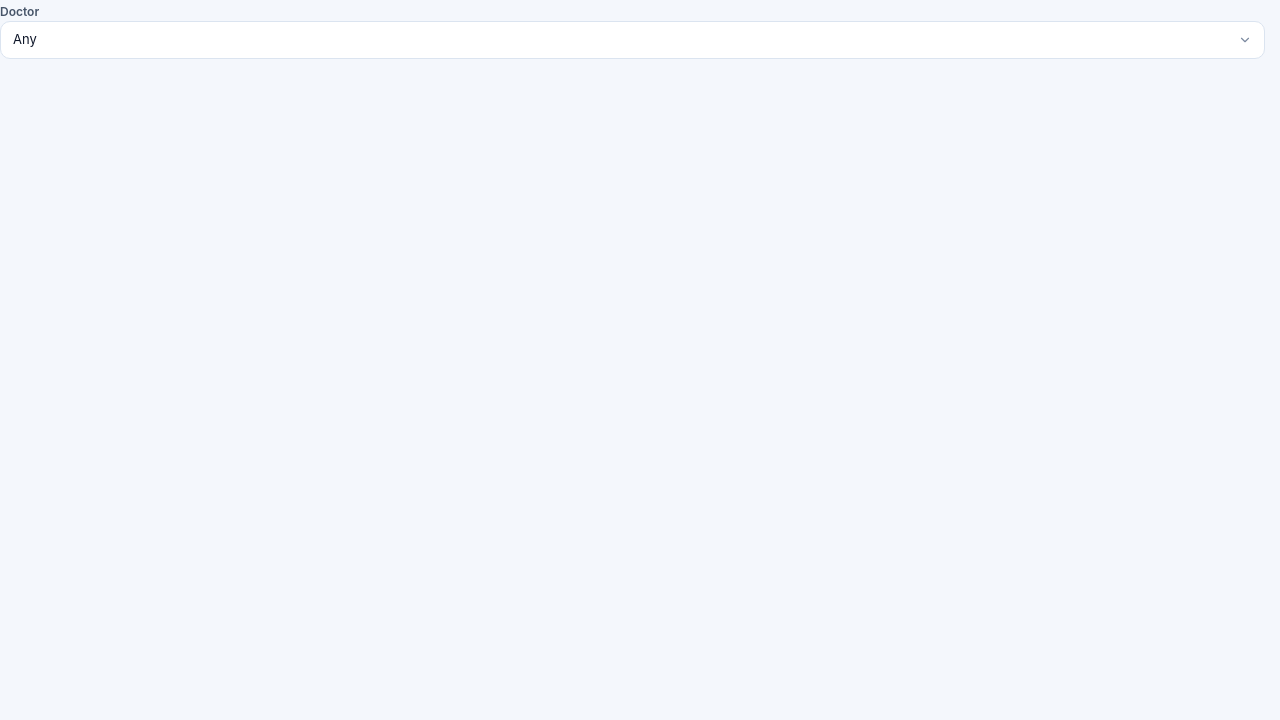
Scenario: drops the query once the popup closes
Click the dropdown named "Doctor" at (25,39), box [0,21,1265,59]
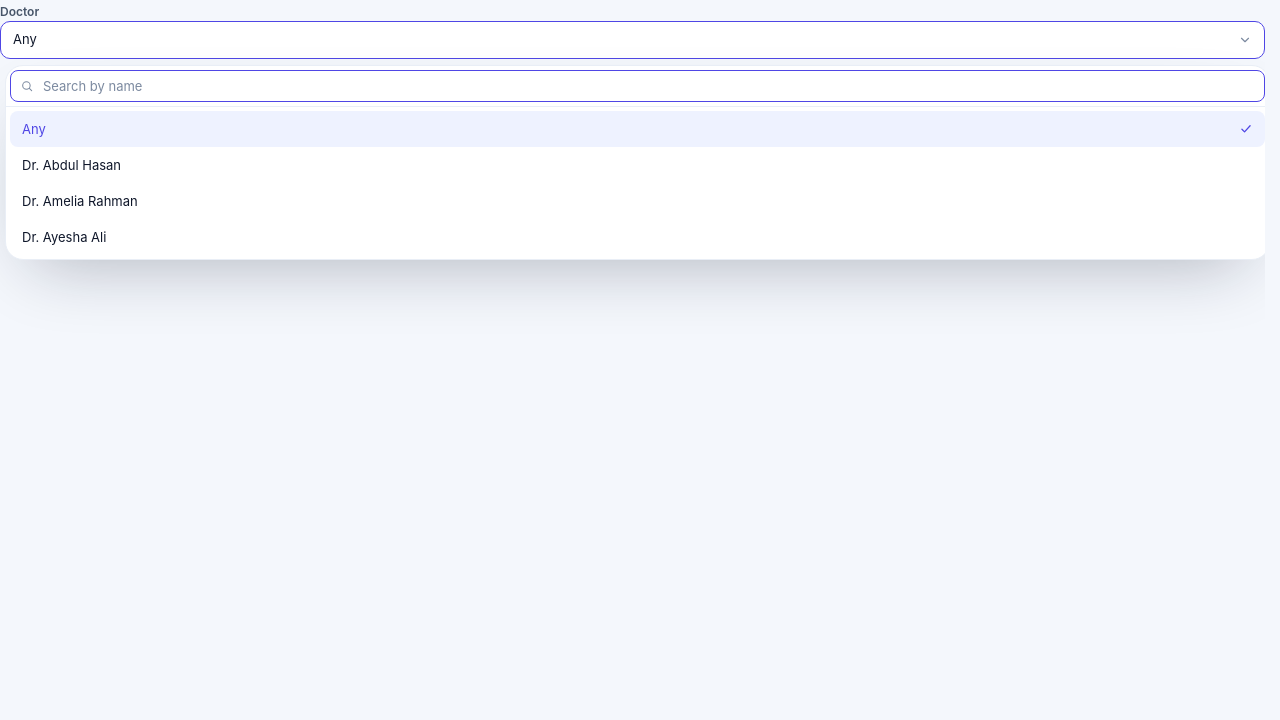
Type "amelia" into the dropdown named "Search doctors" at (638,86), box [10,70,1265,102]
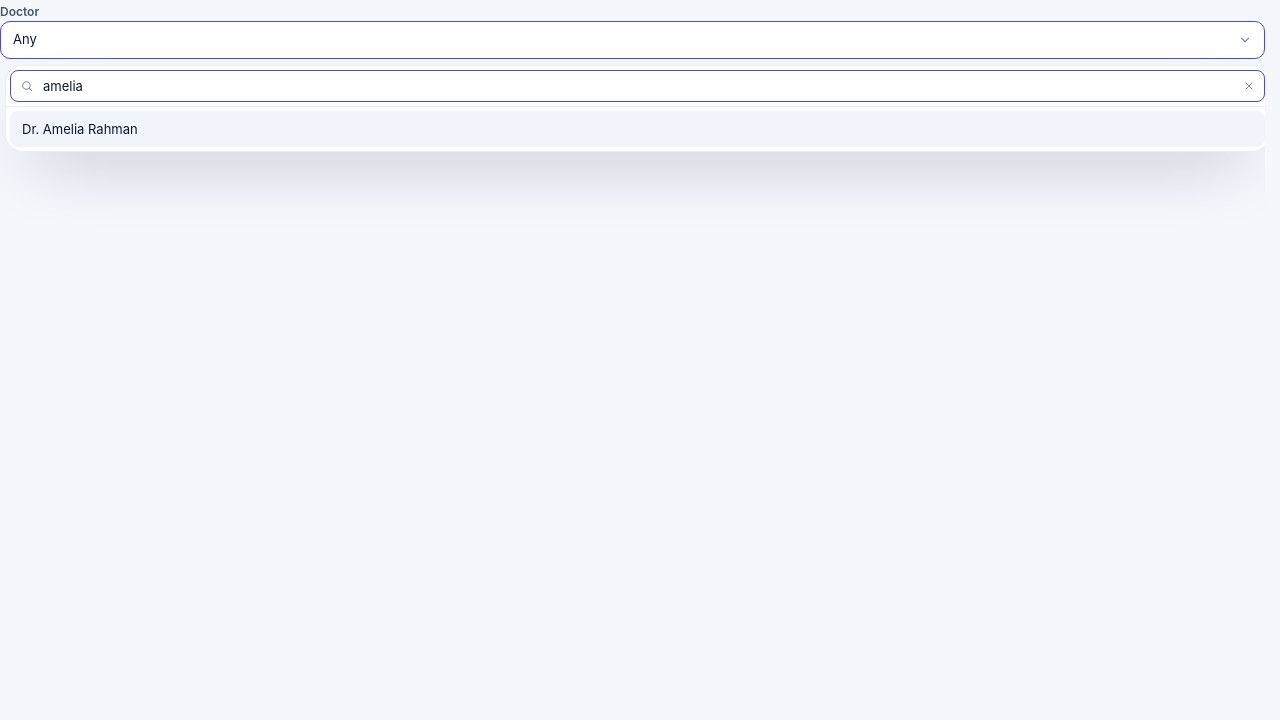
Press Escape
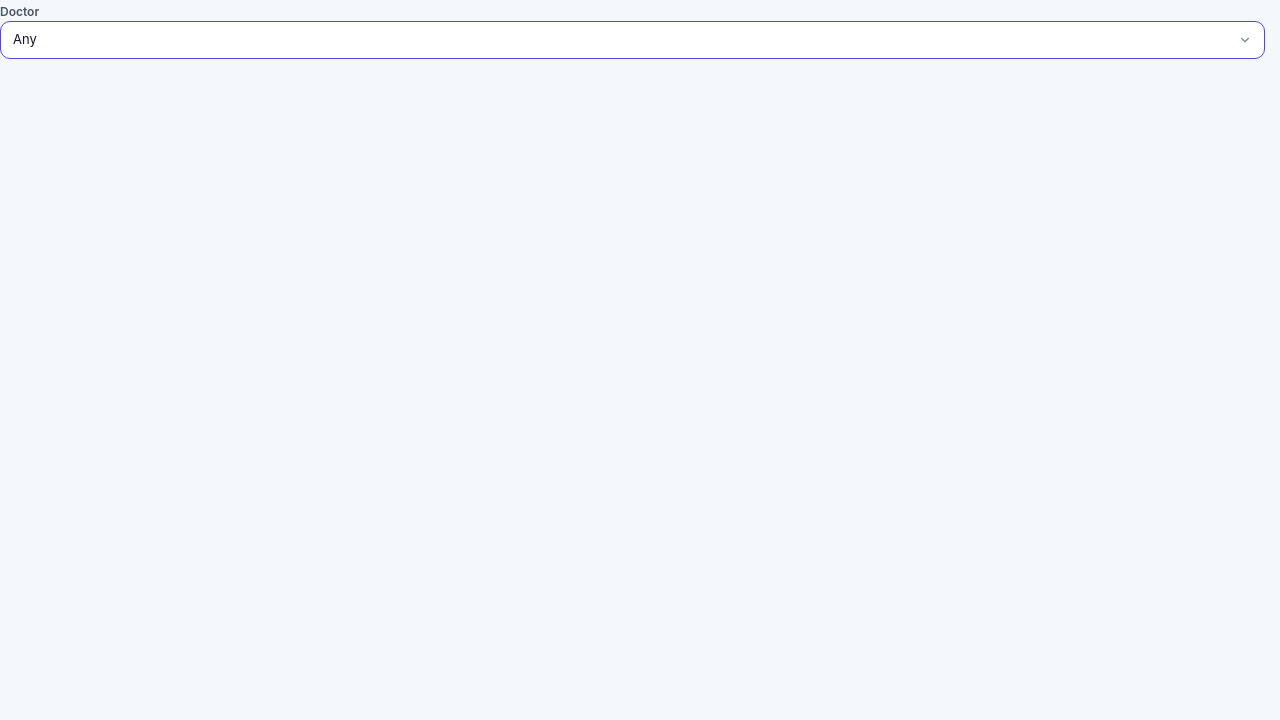
Click the dropdown named "Doctor" at (25,39), box [0,21,1265,59]
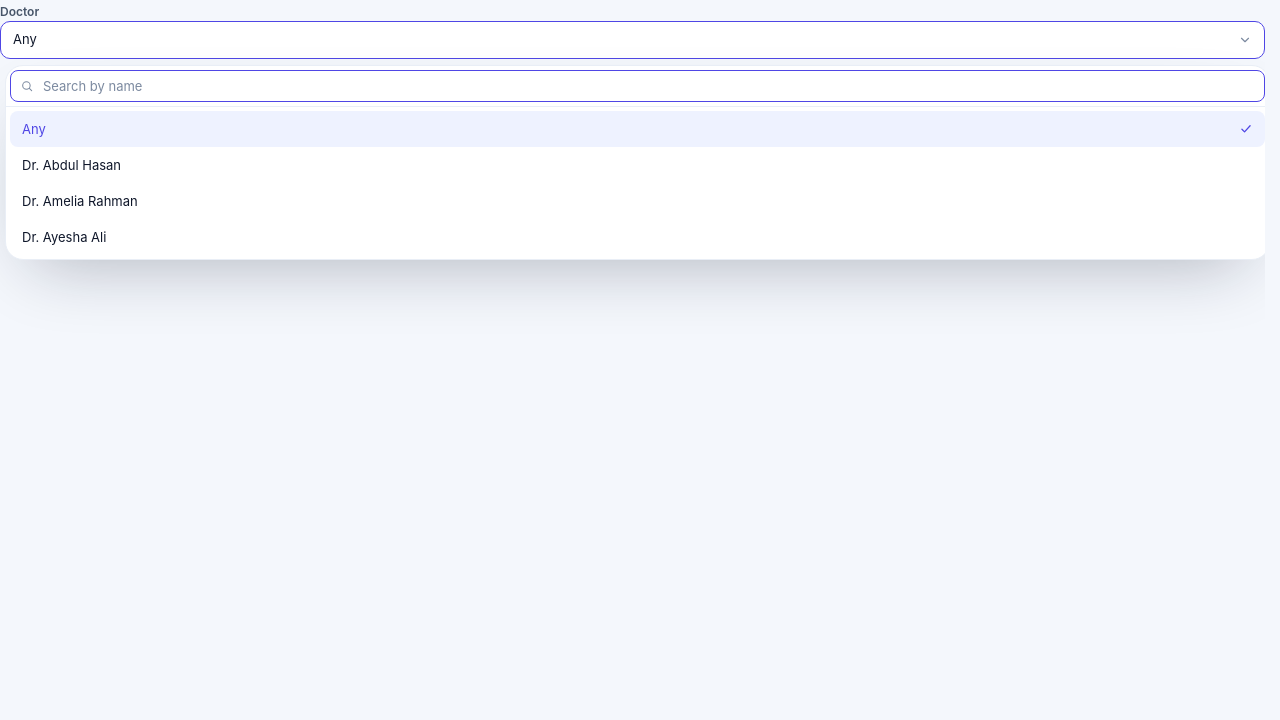
Now the dropdown named "Search doctors" is empty, box [10,70,1265,102]
Now the number of options is 4, box [10,111,1265,147]; [22,157,121,173]; [22,193,138,209]; [22,229,106,245]
